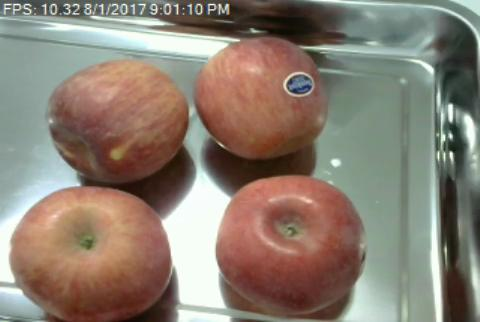apple: (9, 187, 171, 320), (217, 174, 366, 313), (46, 59, 187, 183), (194, 37, 330, 161)
